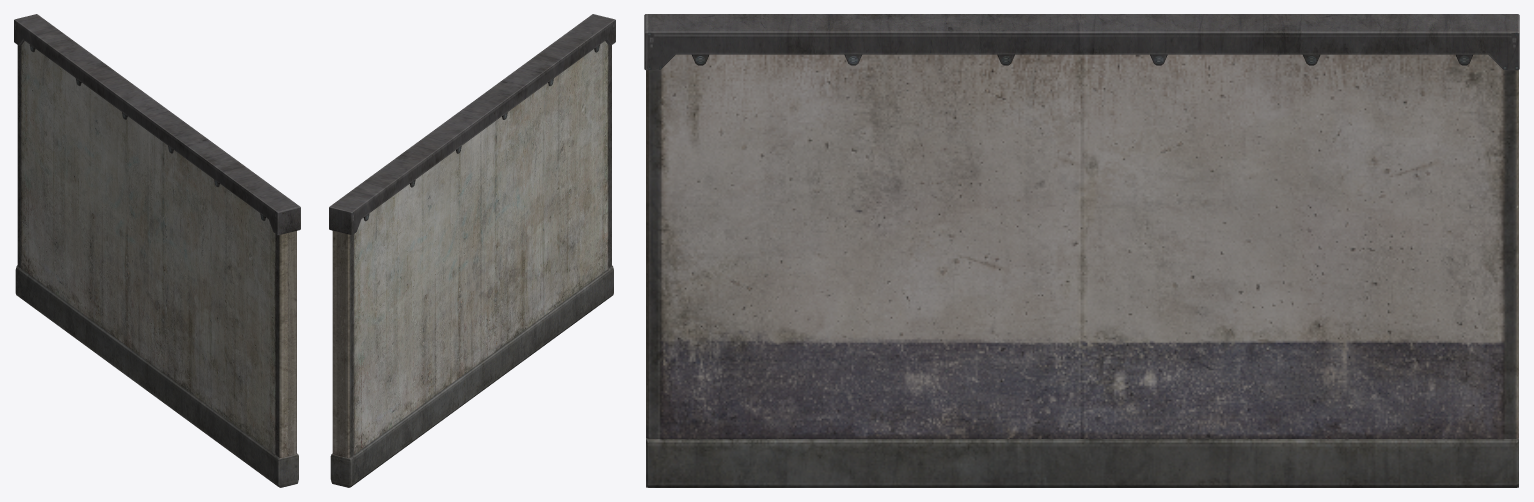
File: prop_wallPanel_D.fbx
3 views of the same model, side by side, from view 1: azimuth 30°, elevation 25°; view 2: azimuth 150°, elevation 25°; view 3: azimuth 270°, elevation 25° (orthographic). The views are drawn at different scales.
Parts seen in each view (by area): view 1: prop_wallPanel_D; view 2: prop_wallPanel_D; view 3: prop_wallPanel_D.
Boxes of the visible parts, bbox=[...] form: prop_wallPanel_D: bbox=[14, 14, 300, 487]; prop_wallPanel_D: bbox=[329, 14, 615, 487]; prop_wallPanel_D: bbox=[644, 14, 1519, 487].
Size of the model in its own units: 20.26 by 232 by 401.
